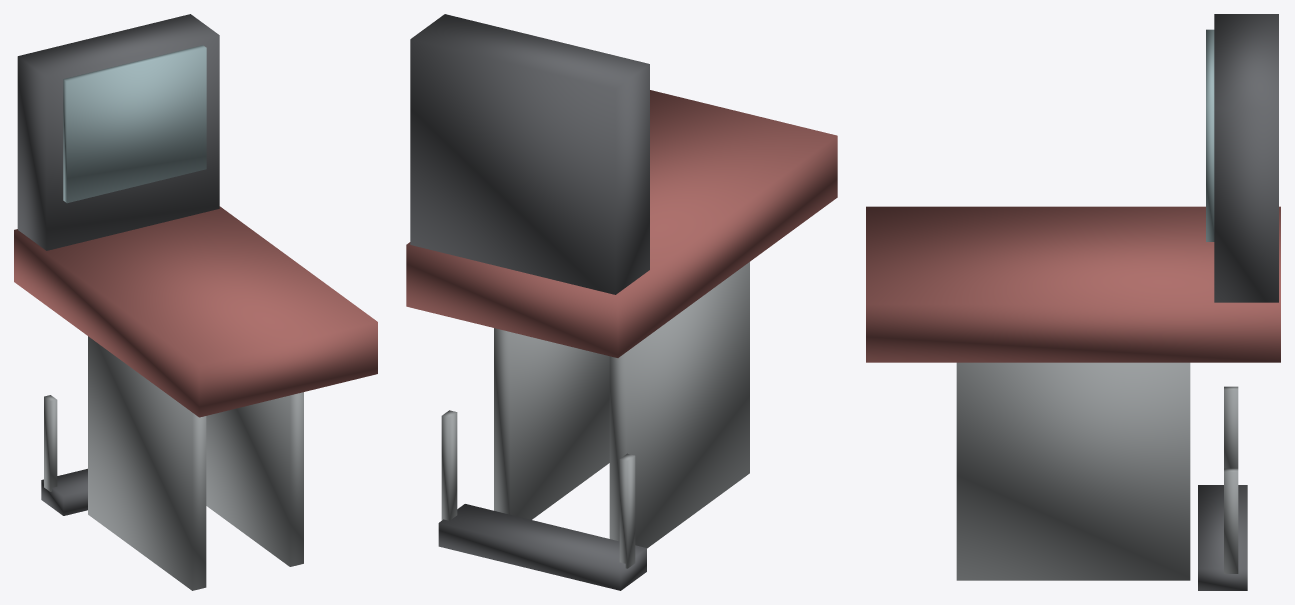
The model's file is pinball_machine__reinforced.glb.
3 renders of one model, left to right at view 1: azimuth 30°, elevation 25°; view 2: azimuth 150°, elevation 25°; view 3: azimuth 270°, elevation 25°, orthographic. The views are drawn at different scales.
Parts seen in each view (by area): view 1: world; view 2: world; view 3: world.
Part boxes in pixels (x1,y1,x2,y2): world: (14, 14, 377, 590); world: (406, 14, 837, 590); world: (866, 14, 1280, 590).
Size of the model in its own units: 0.6592 by 1.54 by 1.18.
